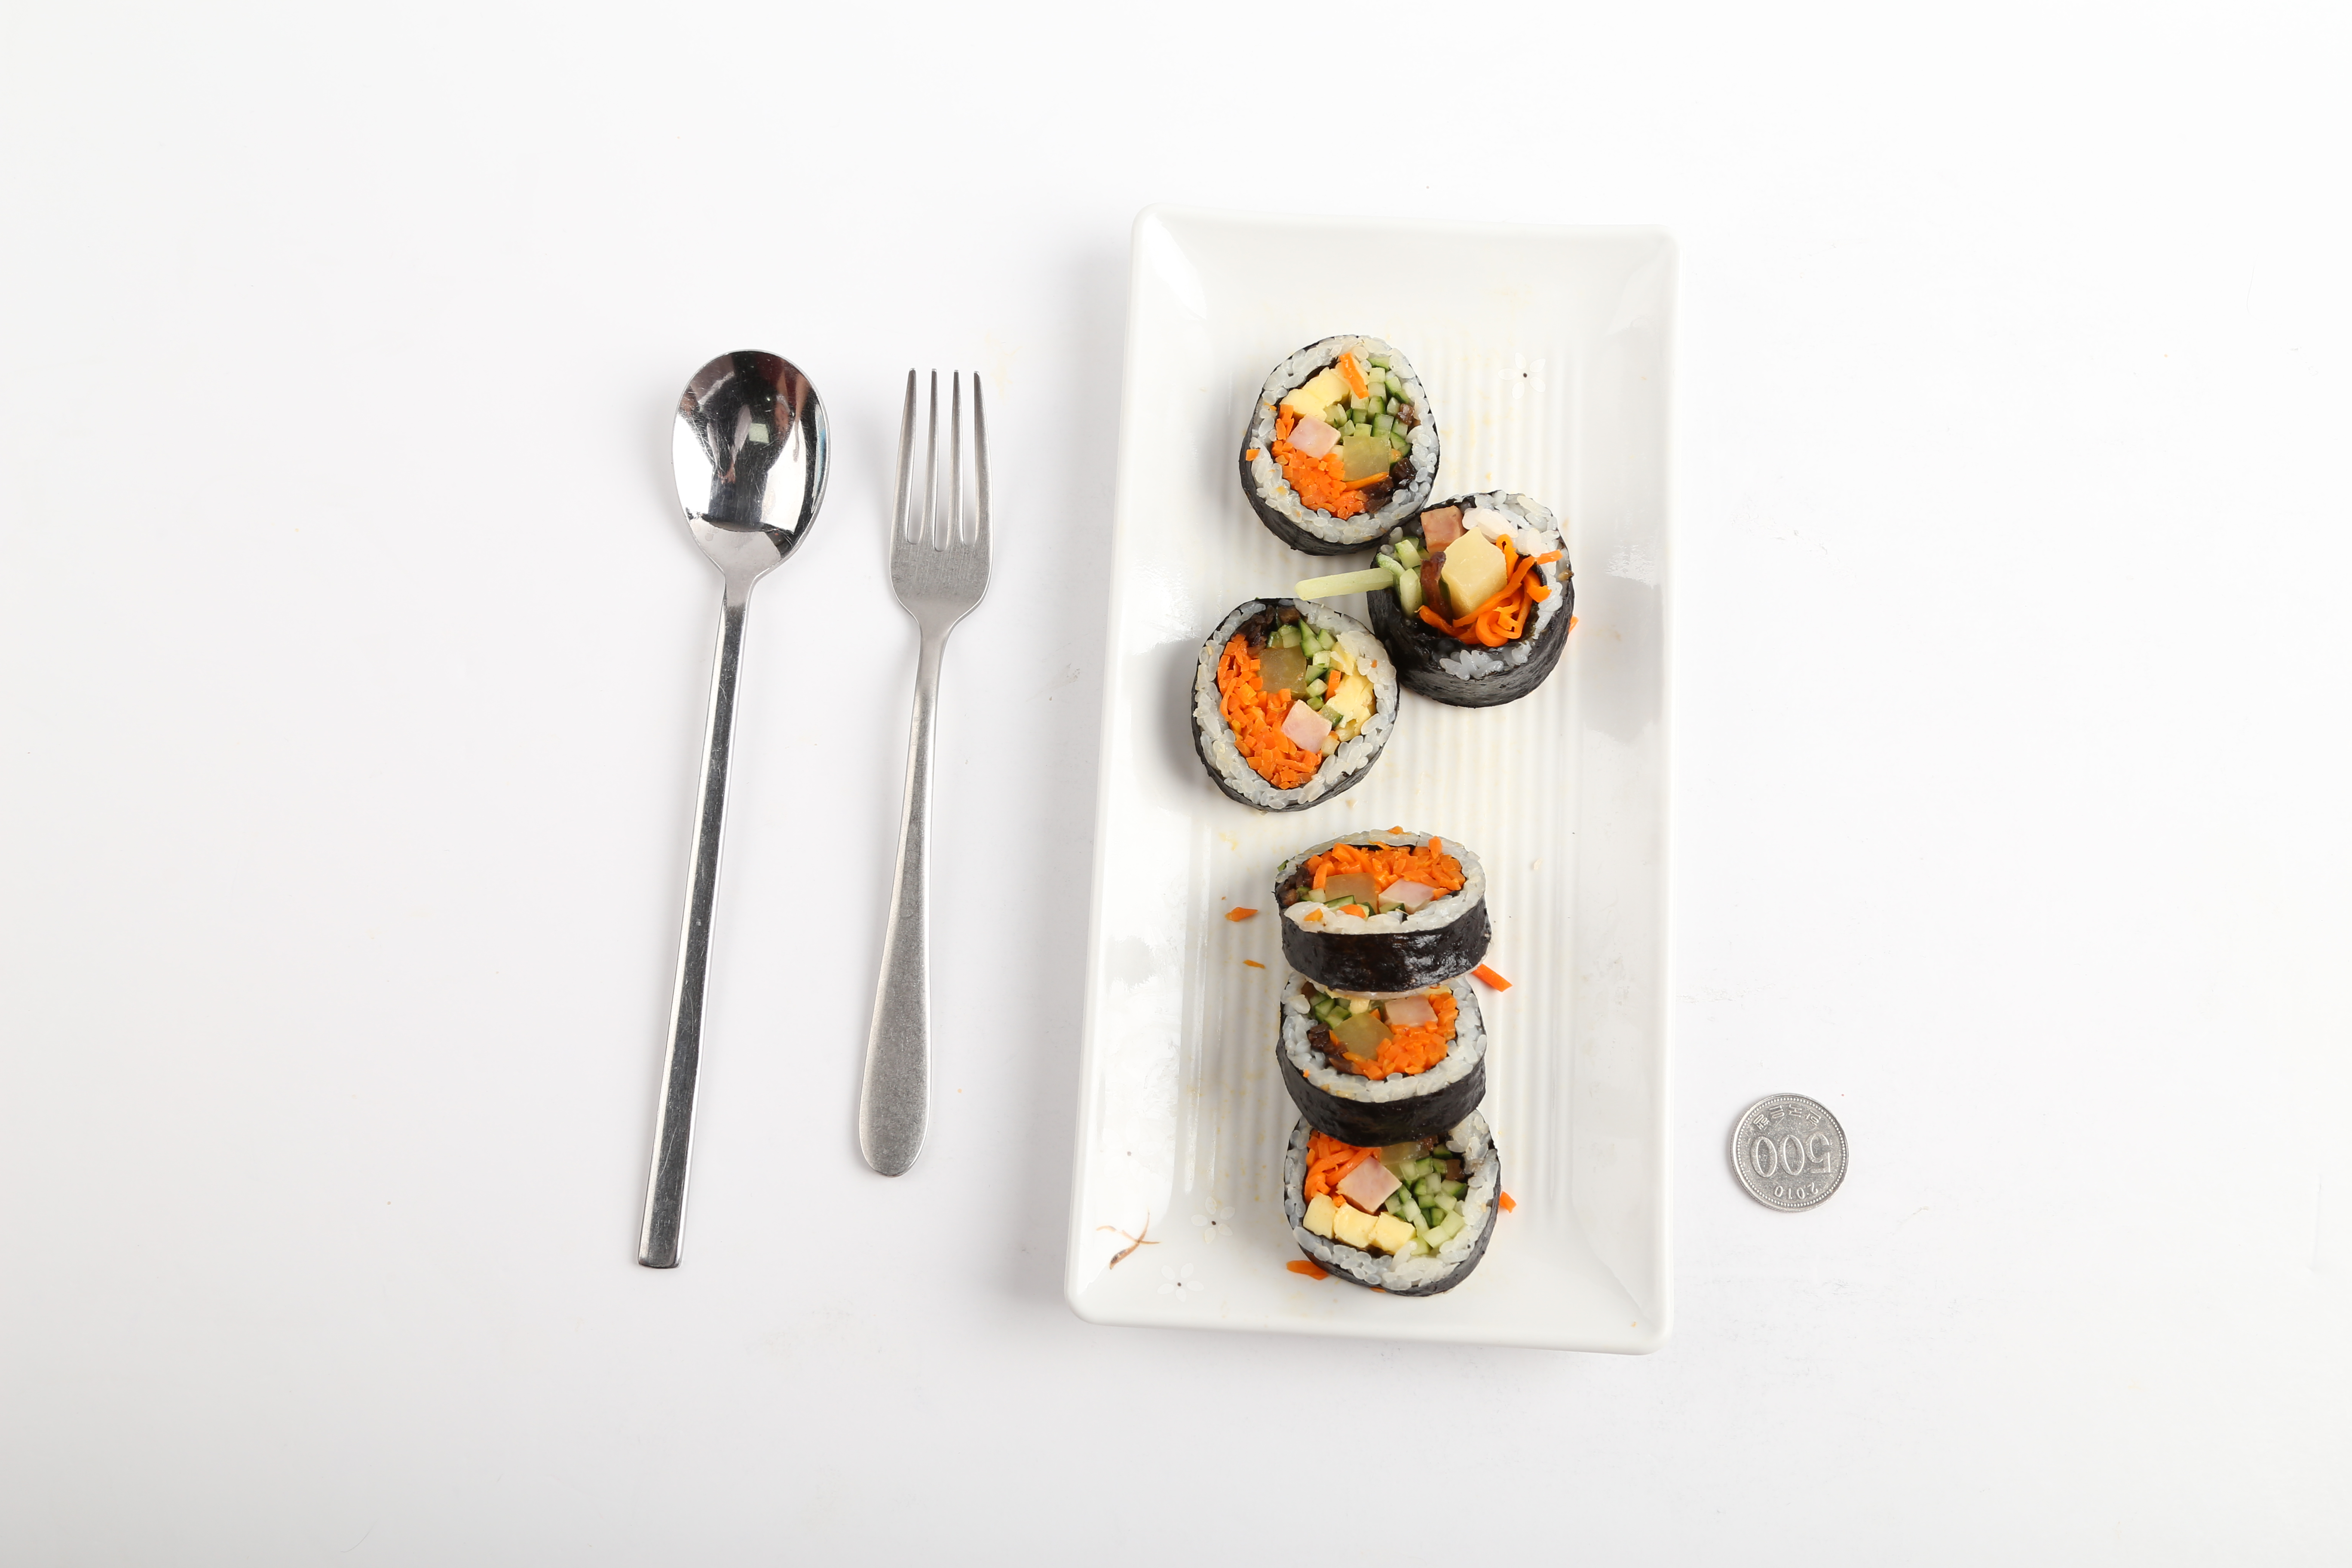dish: (1059, 208, 1683, 1358)
ref_coin: (1722, 1087, 1855, 1216)
ref_fork: (877, 355, 997, 667)
ref_spoon: (665, 338, 831, 633)
김밥: (1192, 325, 1578, 1298)
